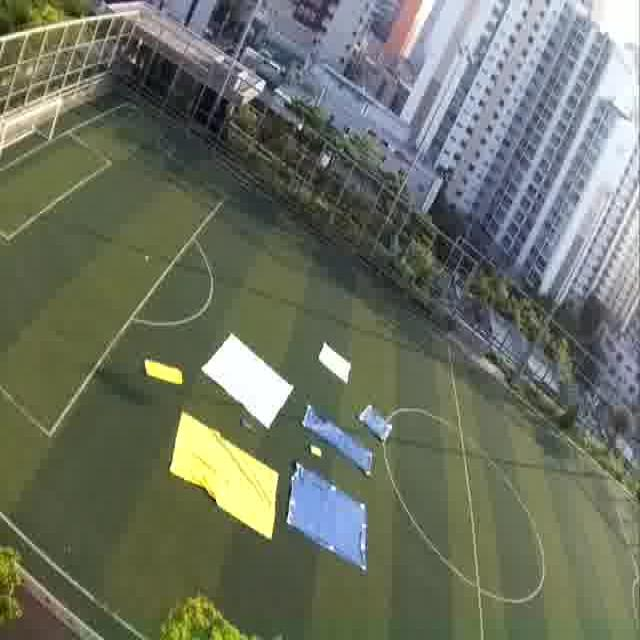danger: (287, 470, 367, 554), (302, 399, 349, 442), (358, 403, 395, 447)
safety: (211, 336, 293, 417), (319, 337, 356, 383)
warning: (176, 441, 276, 525), (141, 350, 188, 390)
